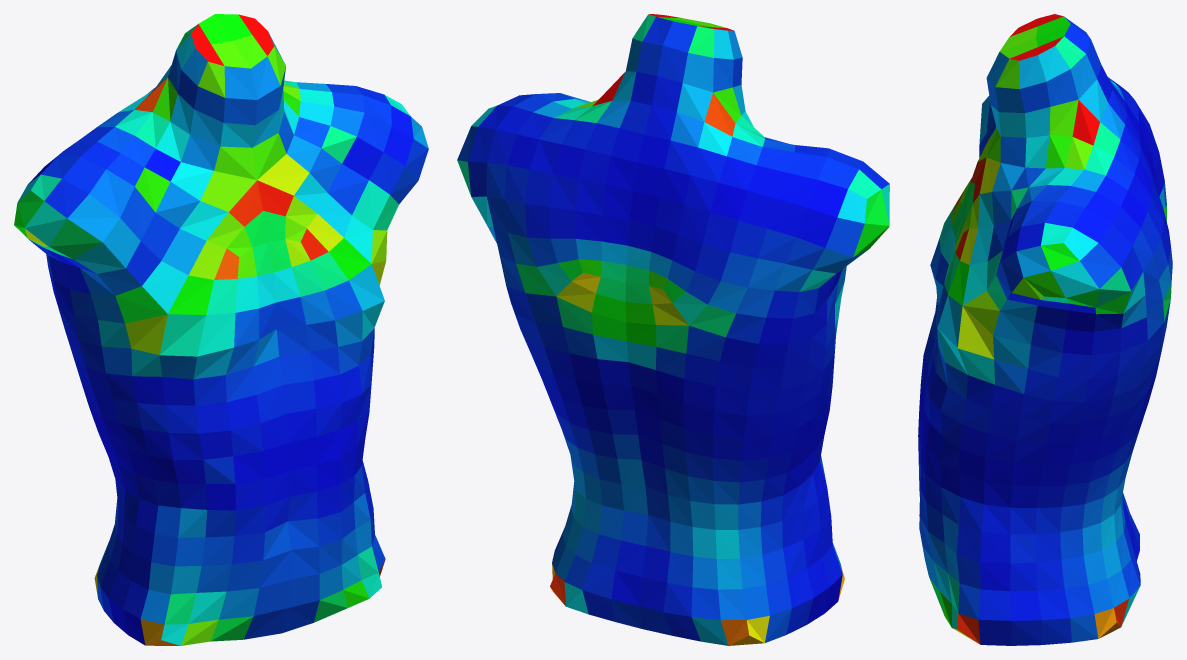
The model's file is mannequin_no_opt_quality.obj.
3 views of the same model, side by side, from view 1: azimuth 30°, elevation 25°; view 2: azimuth 150°, elevation 25°; view 3: azimuth 270°, elevation 25° (orthographic). The views are drawn at different scales.
Bounding box in the file's own units: 5.54 × 7.61 × 3.1.
